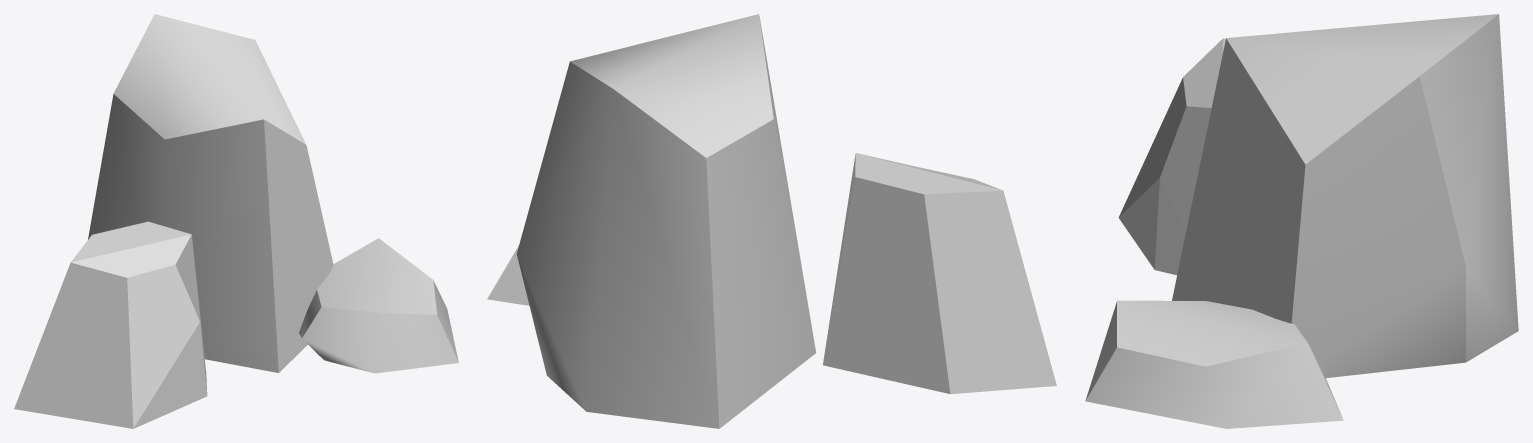
File: obj_rock_5.fbx
The picture shows the model from 3 angles, left to right: view 1: azimuth 30°, elevation 25°; view 2: azimuth 150°, elevation 25°; view 3: azimuth 270°, elevation 25°; orthographic projection. The views are drawn at different scales.
Parts seen in each view (by area): view 1: obj_rock_5; view 2: obj_rock_5; view 3: obj_rock_5.
Boxes of the visible parts, bbox=[...] form: obj_rock_5: bbox=[14, 14, 458, 428]; obj_rock_5: bbox=[487, 14, 1056, 428]; obj_rock_5: bbox=[1085, 14, 1518, 428].
Size of the model in its own units: 2.19 by 1.25 by 1.59.
1 material, 1 textured.
